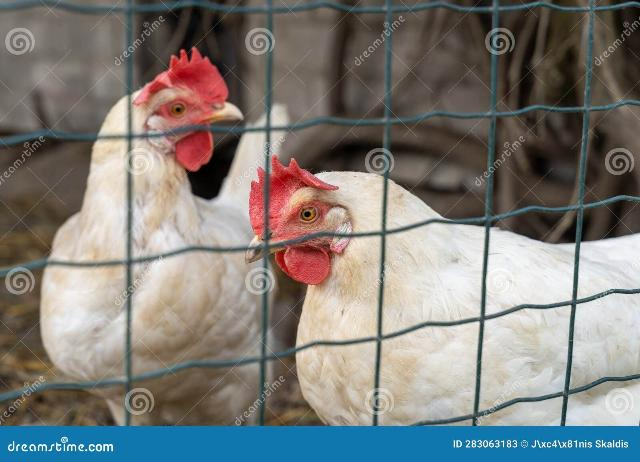Chicken: (247, 154, 640, 427), (40, 48, 289, 426)
